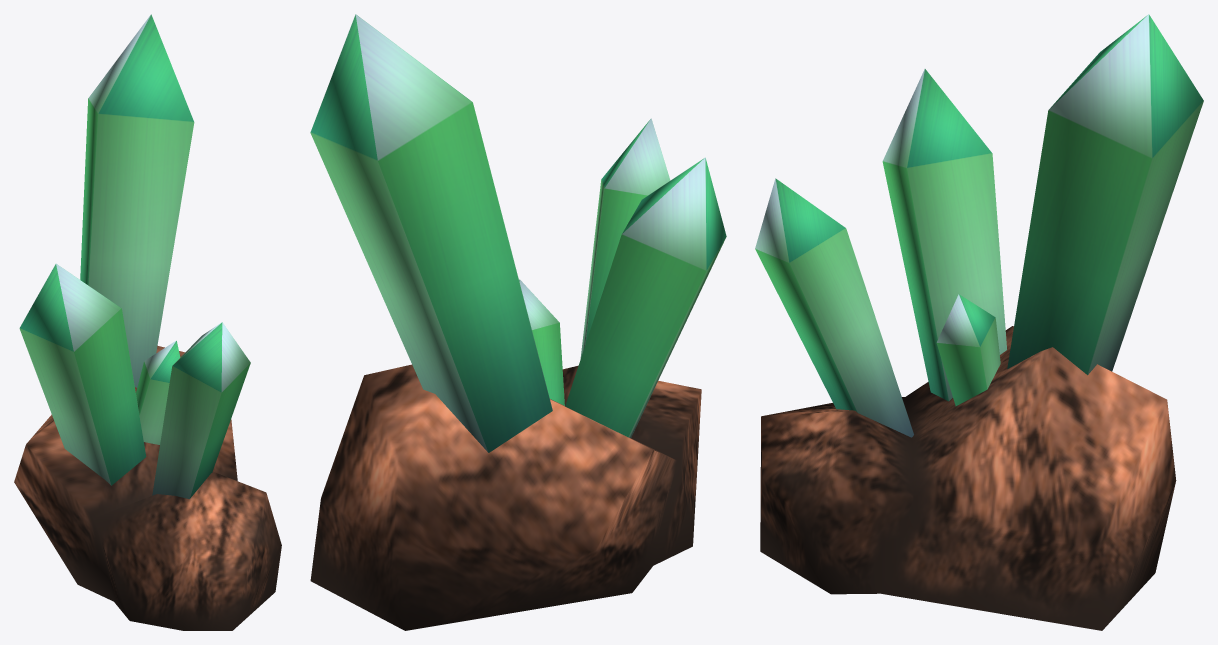
File: object_quartz_01.fbx
3 views of the same model, side by side, from view 1: azimuth 30°, elevation 25°; view 2: azimuth 150°, elevation 25°; view 3: azimuth 270°, elevation 25° (orthographic). The views are drawn at different scales.
Visible parts, largest first — view 1: object_quartz_01; view 2: object_quartz_01; view 3: object_quartz_01.
Part boxes in pixels (x1,y1,x2,y2): object_quartz_01: (14, 14, 281, 630); object_quartz_01: (310, 14, 726, 630); object_quartz_01: (755, 14, 1203, 630).
Bounding box in the file's own units: 12.47 × 21.92 × 15.27.
